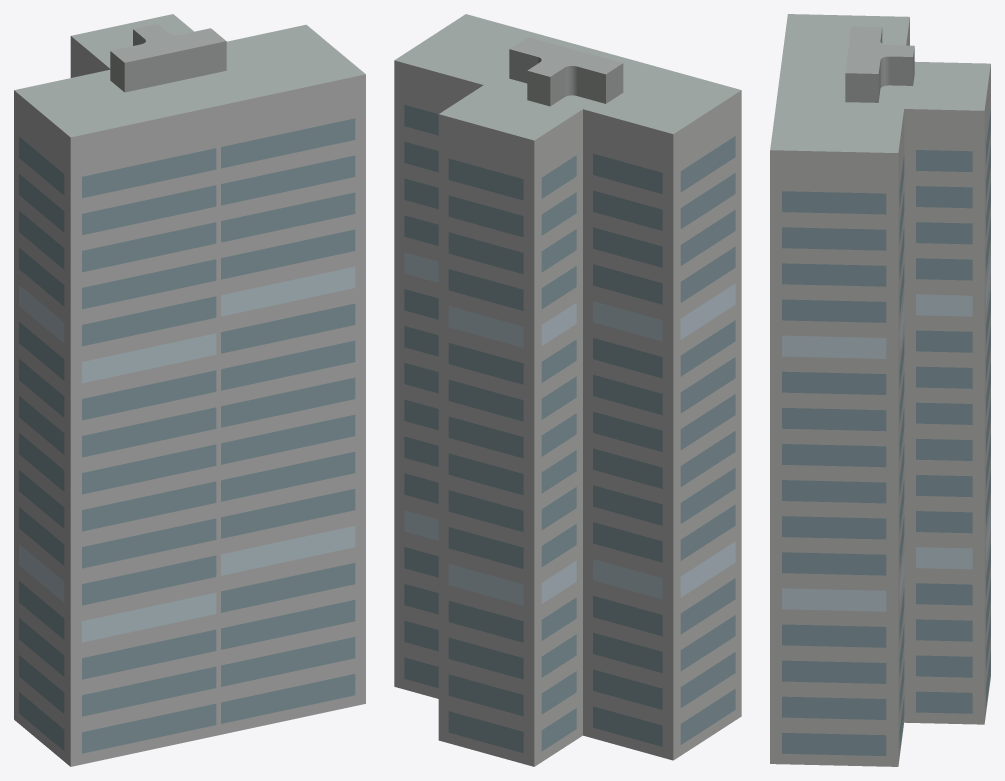
The model's file is fallback-geumho-park-hills-109.glb.
The picture shows the model from 3 angles, left to right: view 1: azimuth 30°, elevation 25°; view 2: azimuth 150°, elevation 25°; view 3: azimuth 270°, elevation 25°; orthographic projection. The views are drawn at different scales.
Parts seen in each view (by area): view 1: fallback-geumho-park-hills-109; view 2: fallback-geumho-park-hills-109; view 3: fallback-geumho-park-hills-109.
Boxes of the visible parts, box(x1,y1,x2,y2) form: fallback-geumho-park-hills-109: box(14, 14, 365, 766); fallback-geumho-park-hills-109: box(394, 14, 741, 766); fallback-geumho-park-hills-109: box(770, 14, 990, 766).
Size of the model in its own units: 22.75 by 49 by 15.25.
